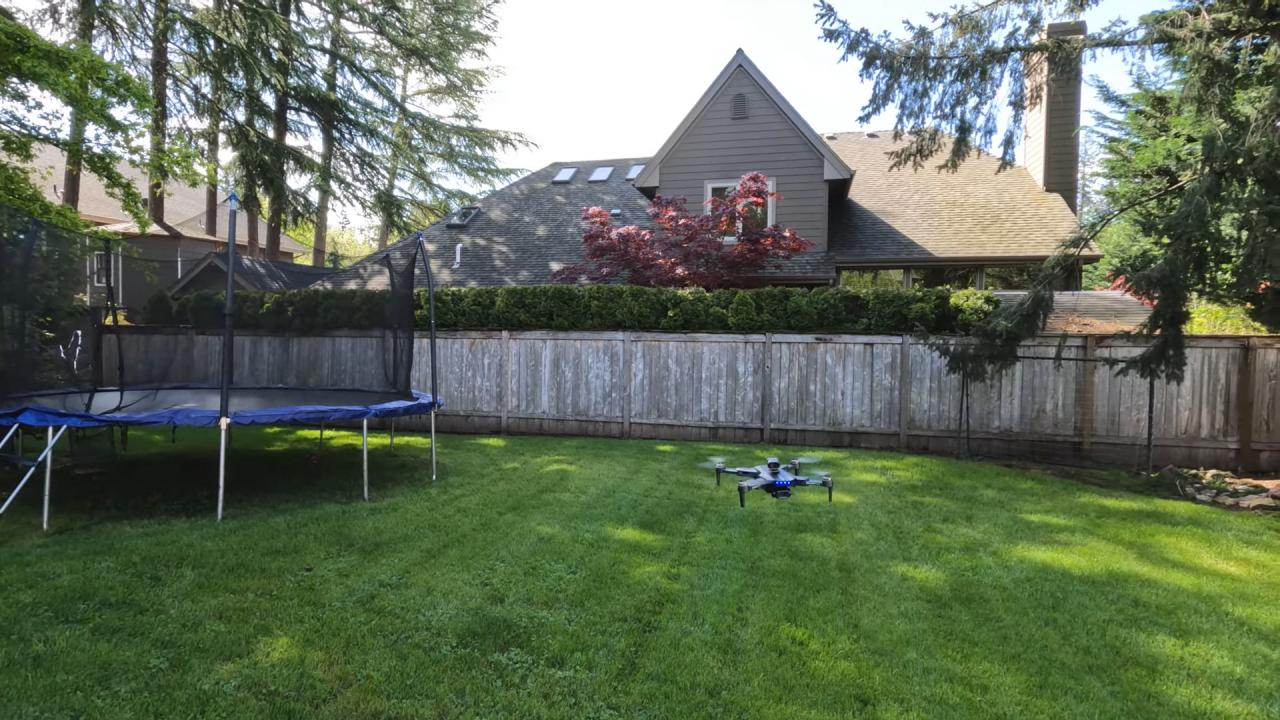Drone: (694, 446, 864, 514)
